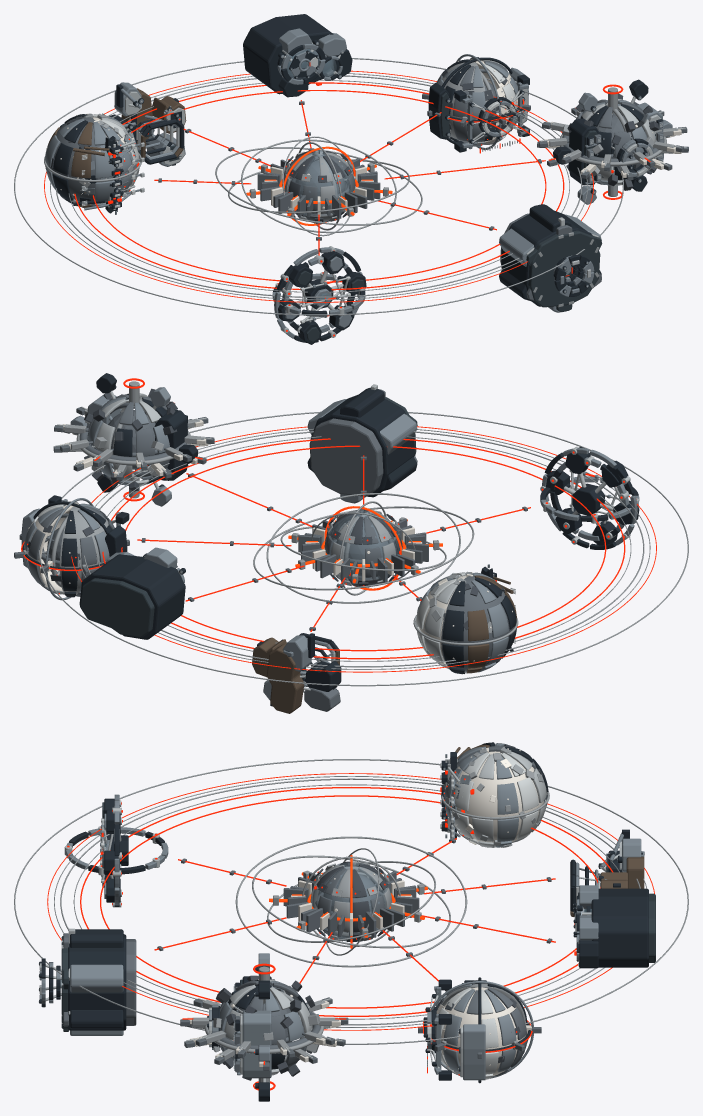
Rendered from orbit-system-ultra.glb.
3 views of the same model, one above another, from view 1: azimuth 30°, elevation 25°; view 2: azimuth 150°, elevation 25°; view 3: azimuth 270°, elevation 25° (orthographic). The views are drawn at different scales.
Parts seen in each view (by area): view 1: Experience_DeepOpticalBody, Protect_FrontArmourBed, IndustrialOrbit_05, IndustrialOrbit_03, Protect_SolidCitadelCore, IndustrialOrbit_07, IndustrialOrbit_01, IndustrialOrbit_04, IndustrialOrbit_06, IndustrialOrbit_02, ReactorSun_Cage, Transform_LegacyShell (+11 smaller); view 2: Protect_RearPressureHull, Experience_DeepOpticalBody, Experience_RearOpticalBody, IndustrialOrbit_05, Protect_SolidCitadelCore, Build_FoundryCore, IndustrialOrbit_03, IndustrialOrbit_01, IndustrialOrbit_07, Transform_LegacyShell, IndustrialOrbit_04, IndustrialOrbit_06 (+18 smaller); view 3: Experience_DeepOpticalBody, Protect_SolidCitadelCore, IndustrialOrbit_05, Transform_FutureShell, IndustrialOrbit_03, Protect_ShieldBastion_00, Deploy_RackCliff_EAST, IndustrialOrbit_01, IndustrialOrbit_07, ReactorServiceHalo_2, IndustrialOrbit_04, Test_MetrologyYoke_EAST (+13 smaller).
Boxes of the visible parts, x1=… form: Experience_DeepOpticalBody: x1=243, y1=14, x2=333, y2=94; Protect_FrontArmourBed: x1=528, y1=230, x2=600, y2=307; IndustrialOrbit_05: x1=14, y1=58, x2=623, y2=315; IndustrialOrbit_03: x1=56, y1=75, x2=582, y2=297; Protect_SolidCitadelCore: x1=501, y1=210, x2=592, y2=306; IndustrialOrbit_07: x1=74, y1=82, x2=564, y2=290; IndustrialOrbit_01: x1=93, y1=90, x2=546, y2=282; IndustrialOrbit_04: x1=44, y1=70, x2=593, y2=302; IndustrialOrbit_06: x1=50, y1=73, x2=587, y2=300; IndustrialOrbit_02: x1=68, y1=80, x2=569, y2=292; ReactorSun_Cage: x1=285, y1=150, x2=351, y2=220; Transform_LegacyShell: x1=47, y1=117, x2=115, y2=204; Protect_RearPressureHull: x1=309, y1=418, x2=383, y2=496; Experience_DeepOpticalBody: x1=79, y1=554, x2=185, y2=639; Experience_RearOpticalBody: x1=80, y1=578, x2=154, y2=637; IndustrialOrbit_05: x1=38, y1=411, x2=688, y2=686; Protect_SolidCitadelCore: x1=310, y1=395, x2=414, y2=497; Build_FoundryCore: x1=267, y1=644, x2=304, y2=713; IndustrialOrbit_03: x1=83, y1=431, x2=644, y2=667; IndustrialOrbit_01: x1=121, y1=445, x2=606, y2=651; IndustrialOrbit_07: x1=102, y1=438, x2=625, y2=659; Transform_LegacyShell: x1=441, y1=576, x2=514, y2=671; IndustrialOrbit_04: x1=71, y1=426, x2=656, y2=672; IndustrialOrbit_06: x1=77, y1=428, x2=650, y2=669; Experience_DeepOpticalBody: x1=591, y1=888, x2=648, y2=967; Protect_SolidCitadelCore: x1=67, y1=934, x2=126, y2=1030; IndustrialOrbit_05: x1=14, y1=759, x2=688, y2=1044; Transform_FutureShell: x1=448, y1=751, x2=543, y2=842; IndustrialOrbit_03: x1=60, y1=778, x2=640, y2=1025; Protect_ShieldBastion_00: x1=70, y1=964, x2=123, y2=992; Deploy_RackCliff_EAST: x1=242, y1=1010, x2=271, y2=1078; IndustrialOrbit_01: x1=100, y1=795, x2=600, y2=1008; IndustrialOrbit_07: x1=80, y1=787, x2=613, y2=1016; ReactorServiceHalo_2: x1=235, y1=836, x2=467, y2=967; IndustrialOrbit_04: x1=47, y1=773, x2=654, y2=1030; Test_MetrologyYoke_EAST: x1=463, y1=1024, x2=485, y2=1080.
Size of the model in its own units: 56.55 by 11.7 by 51.11.
